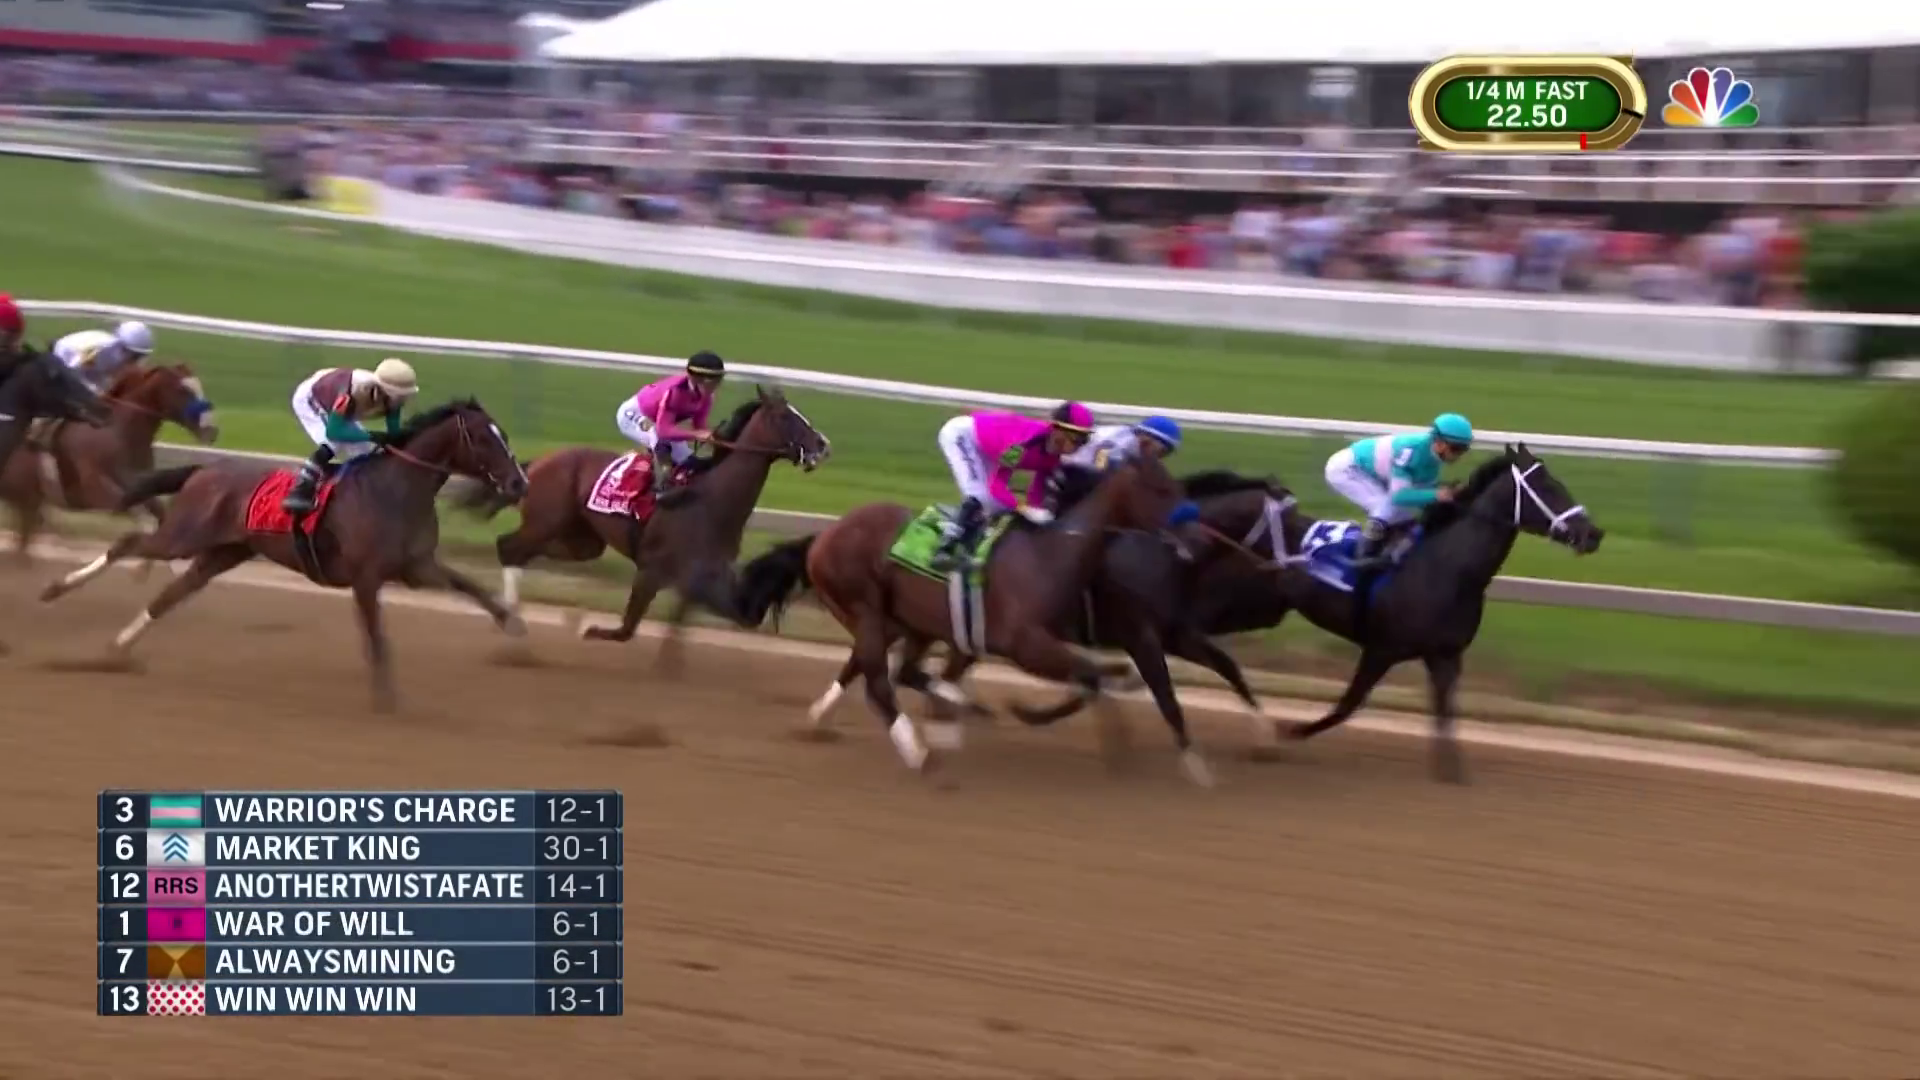jockey: (1323, 411, 1495, 605), (927, 396, 1095, 576), (293, 353, 426, 526), (611, 345, 735, 524), (1034, 404, 1185, 542), (36, 316, 170, 446)
